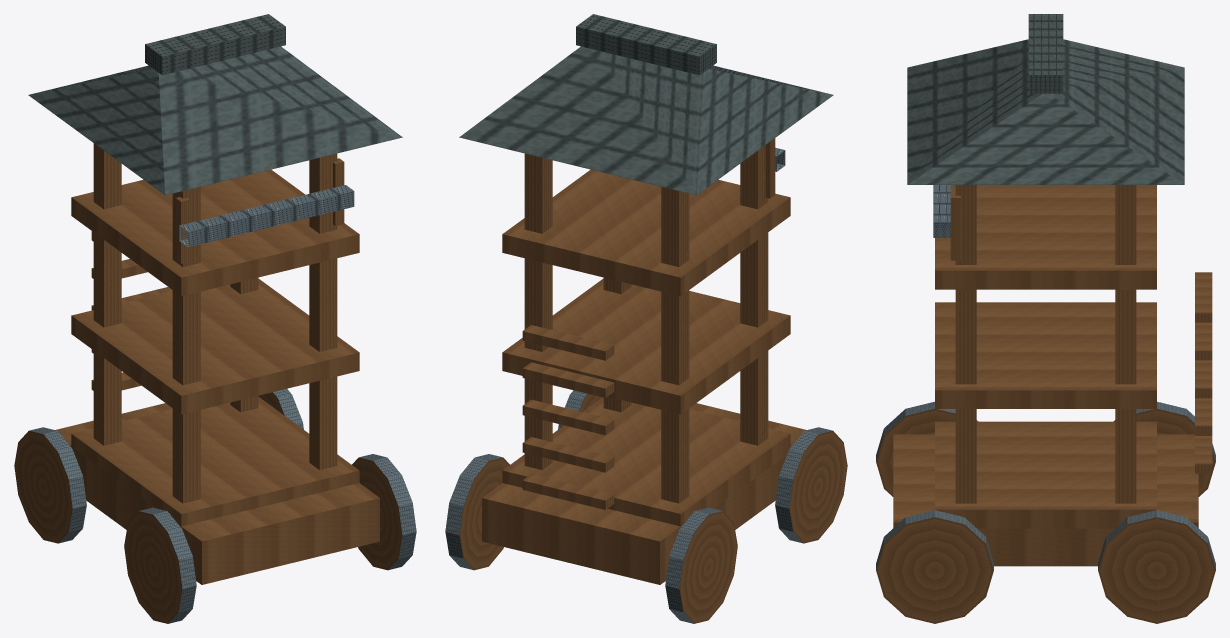
File: unit-SIEGE_TOWER-lod0.glb
3 renders of one model, left to right at view 1: azimuth 30°, elevation 25°; view 2: azimuth 150°, elevation 25°; view 3: azimuth 270°, elevation 25°, orthographic.
Size of the model in its own units: 0.4 by 0.83 by 0.49.
Materials: 1 (1 with a texture image).
